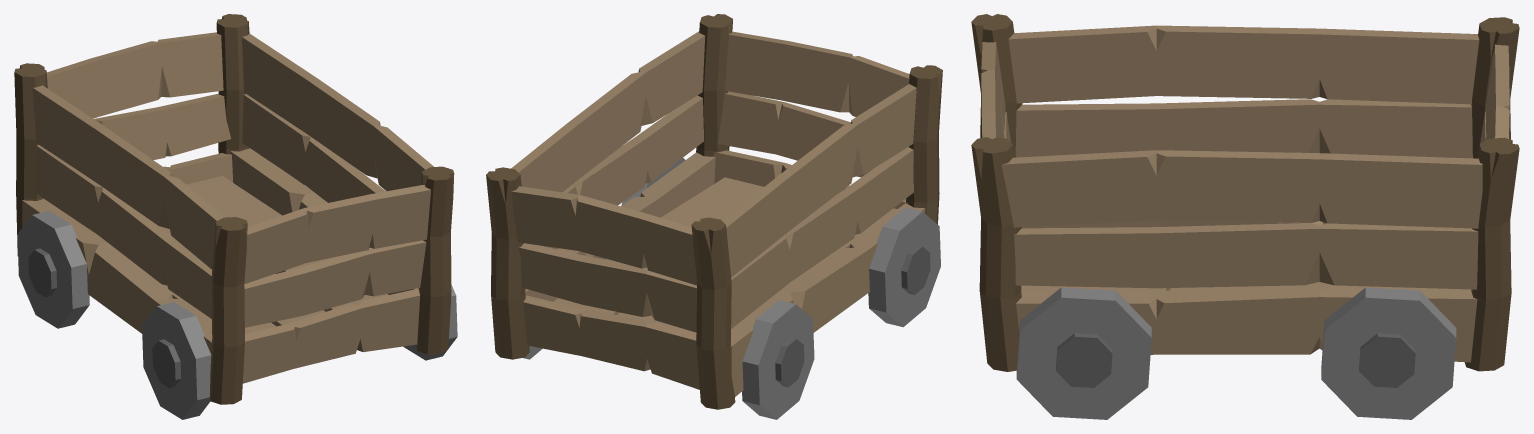
The model's file is LowPolyMinecart.fbx.
3 renders of one model, left to right at view 1: azimuth 30°, elevation 25°; view 2: azimuth 150°, elevation 25°; view 3: azimuth 270°, elevation 25°, orthographic. The views are drawn at different scales.
Parts seen in each view (by area): view 1: pCube10, pCube13, pCube11, pCube12, pCylinder3, pCylinder7, pCylinder1, pCylinder8, pCube14, pCylinder4, pCylinder2, pCylinder11 (+2 smaller); view 2: pCube13, pCube12, pCube11, pCube10, pCylinder4, pCylinder2, pCylinder8, pCylinder7, pCylinder3, pCylinder1, pCube14, pCylinder11 (+1 smaller); view 3: pCube11, pCube13, pCylinder6, pCylinder5, pCylinder1, pCylinder2, pCylinder4, pCylinder3, pCylinder10, pCylinder9, pCube14, pCube10 (+1 smaller).
Boxes of the visible parts, bbox=[...] form: pCube10: bbox=[242, 185, 430, 383]; pCube13: bbox=[22, 85, 224, 353]; pCube11: bbox=[230, 34, 433, 294]; pCube12: bbox=[46, 32, 233, 184]; pCylinder3: bbox=[209, 217, 247, 404]; pCylinder7: bbox=[17, 211, 89, 328]; pCylinder1: bbox=[415, 166, 454, 354]; pCylinder8: bbox=[142, 302, 211, 419]; pCube14: bbox=[129, 176, 388, 333]; pCylinder4: bbox=[14, 63, 47, 255]; pCylinder2: bbox=[216, 14, 249, 154]; pCylinder11: bbox=[28, 248, 56, 297]; pCube13: bbox=[722, 84, 925, 396]; pCube12: bbox=[511, 186, 699, 389]; pCube11: bbox=[511, 31, 715, 301]; pCube10: bbox=[714, 31, 909, 208]; pCylinder4: bbox=[691, 217, 735, 409]; pCylinder2: bbox=[486, 167, 529, 359]; pCylinder8: bbox=[868, 207, 940, 327]; pCylinder7: bbox=[742, 300, 814, 419]; pCylinder3: bbox=[906, 65, 942, 224]; pCylinder1: bbox=[696, 14, 732, 156]; pCube14: bbox=[553, 177, 896, 332]; pCylinder11: bbox=[775, 337, 804, 387]; pCube11: bbox=[1001, 150, 1482, 362]; pCube13: bbox=[1008, 25, 1479, 158]; pCylinder6: bbox=[1321, 287, 1456, 419]; pCylinder5: bbox=[1016, 287, 1151, 419]; pCylinder1: bbox=[971, 137, 1022, 371]; pCylinder2: bbox=[1465, 137, 1519, 371]; pCylinder4: bbox=[1471, 17, 1519, 158]; pCylinder3: bbox=[971, 14, 1022, 157]; pCylinder10: bbox=[1359, 333, 1415, 387]; pCylinder9: bbox=[1056, 333, 1112, 387]; pCube14: bbox=[1021, 220, 1333, 291]; pCube10: bbox=[981, 42, 1010, 142].
Size of the model in its own units: 5.38 by 3.99 by 7.69.
